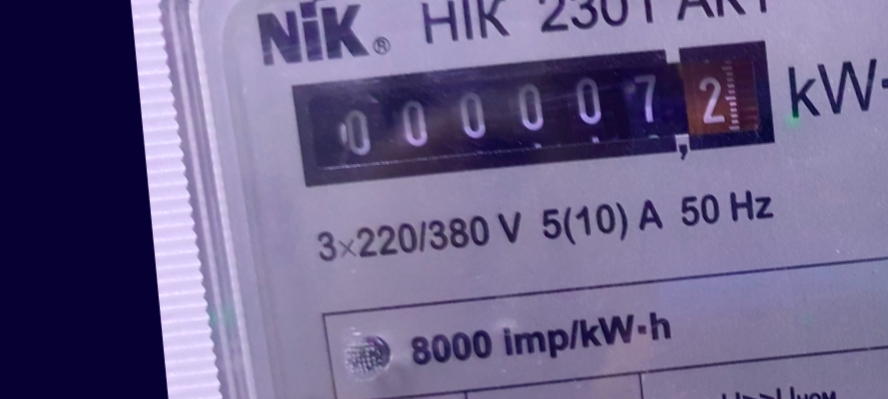0: (395, 94, 434, 149), (570, 73, 607, 129), (512, 78, 548, 134), (339, 104, 376, 158), (455, 86, 490, 141)
2: (694, 73, 729, 126)
7: (629, 69, 663, 126)
screen: (272, 19, 797, 208)
